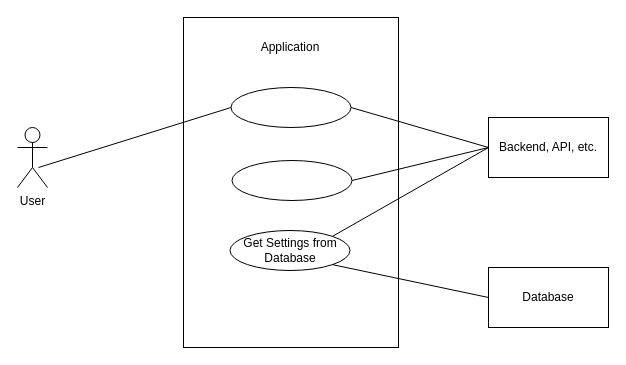
The diagram is 626 pixels wide and 365 high, and some of its shapes have lost their labels. Each missing label, with the centre of its shape:
"Get Stock Data from Yahoo Finance" goes at pixel 291 180.
"Output Stock Data" goes at pixel 290 107.
